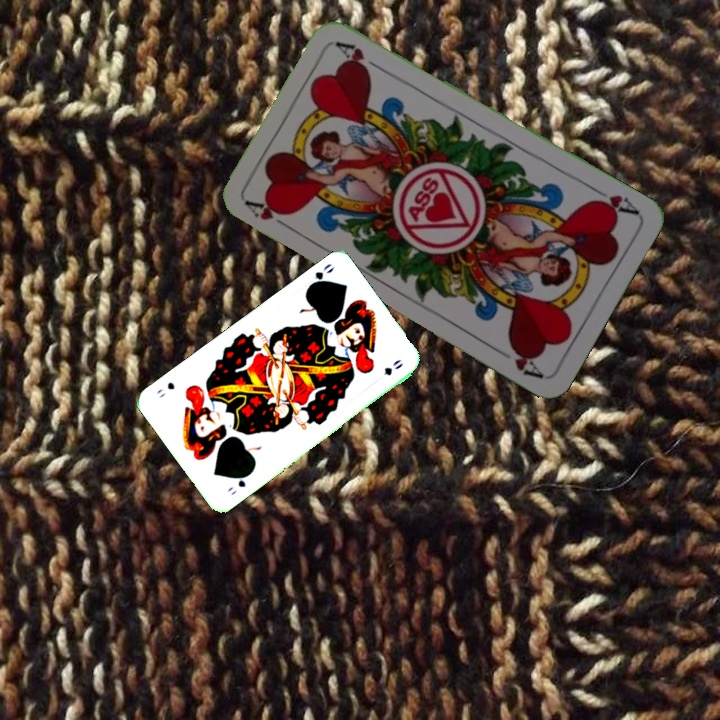GO: (303, 259, 337, 292), (223, 469, 254, 498)
HA: (242, 196, 296, 233), (586, 182, 641, 218)
